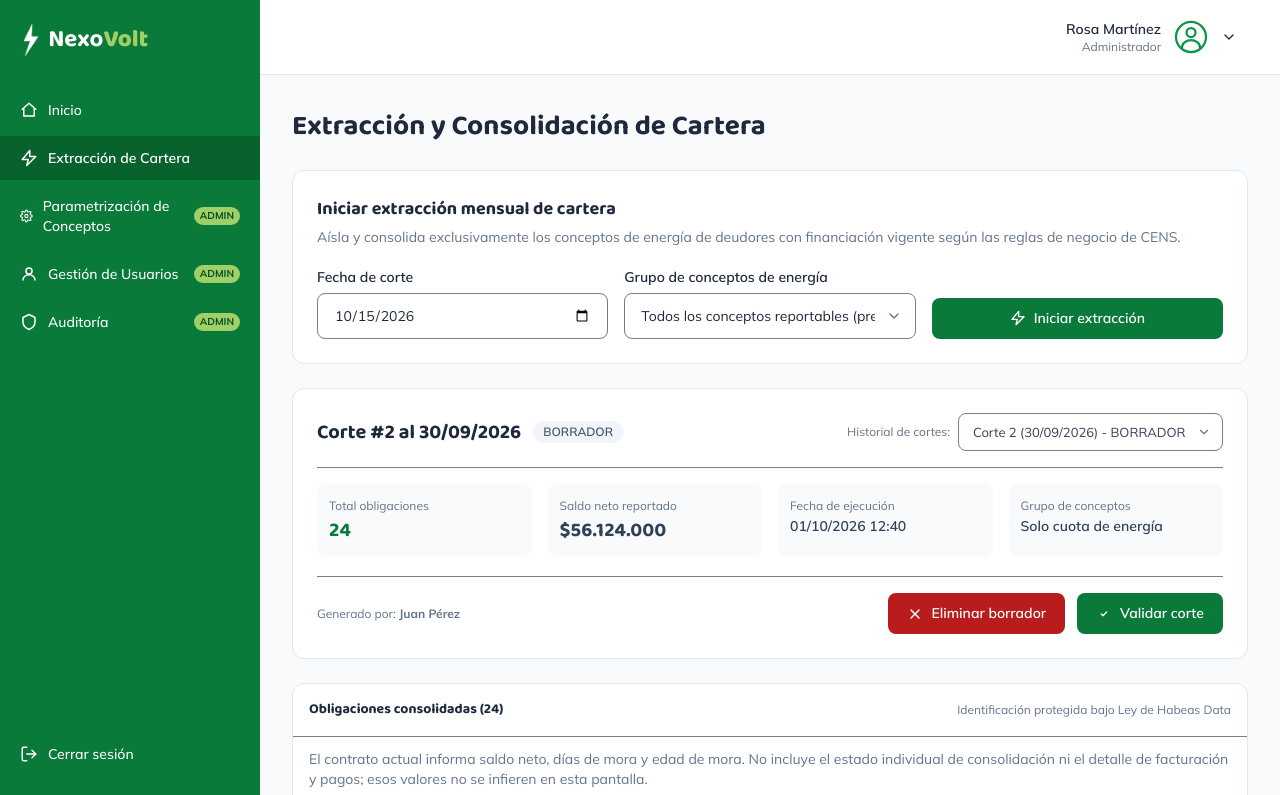
Test case: pantalla de extracción y consolidación de cartera (RF1–RF5) › formulario valida fecha obligatoria y no futura
Expected: the heading "Corte #2 al 30/09/2026" is shown, [317,418,521,446]
Clear the date field labelled "Fecha de corte" at (463, 316), box [317,293,608,339]
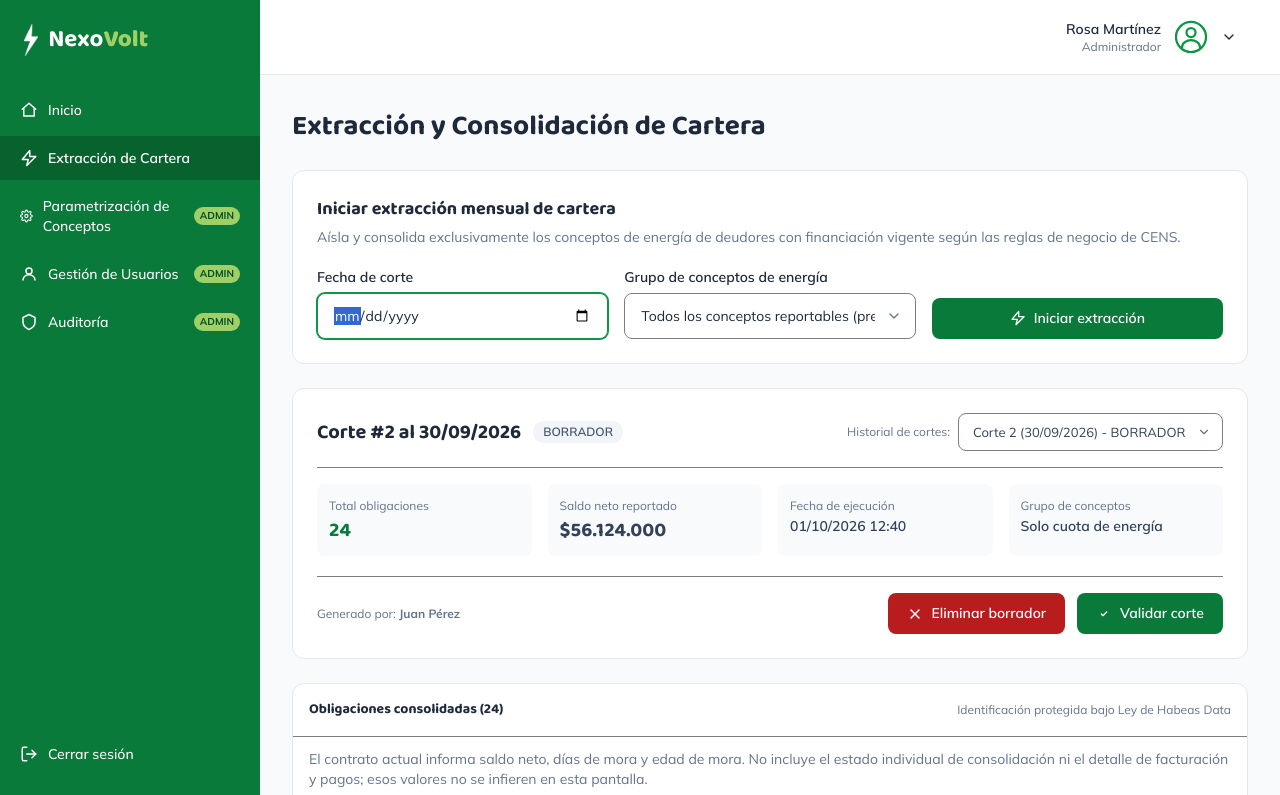
Click the button "Iniciar extracción" at (1077, 318), box [932,298,1223,339]
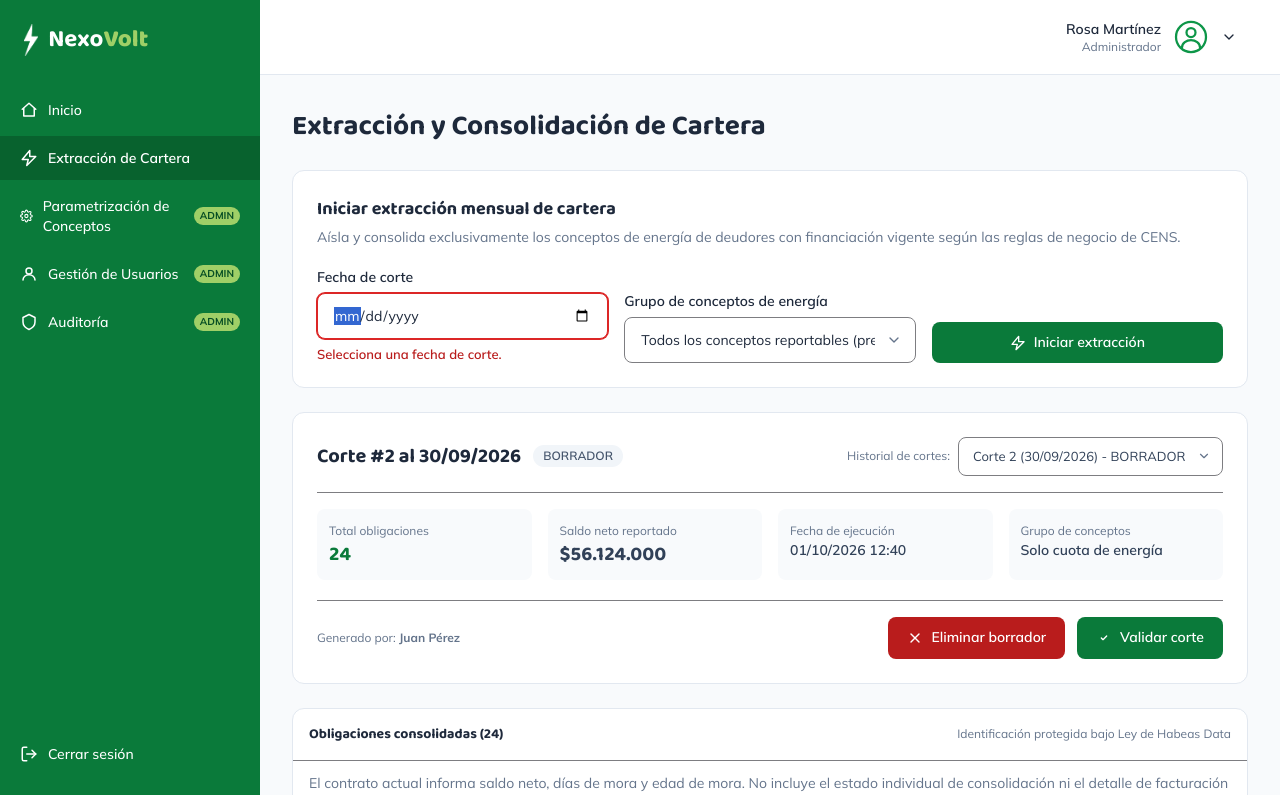
Expected: the text "Selecciona una fecha de corte." is shown, [317,346,502,362]
Fecha futura
Type "2099-01-01" into the date field labelled "Fecha de corte" at (463, 316), box [317,293,608,339]
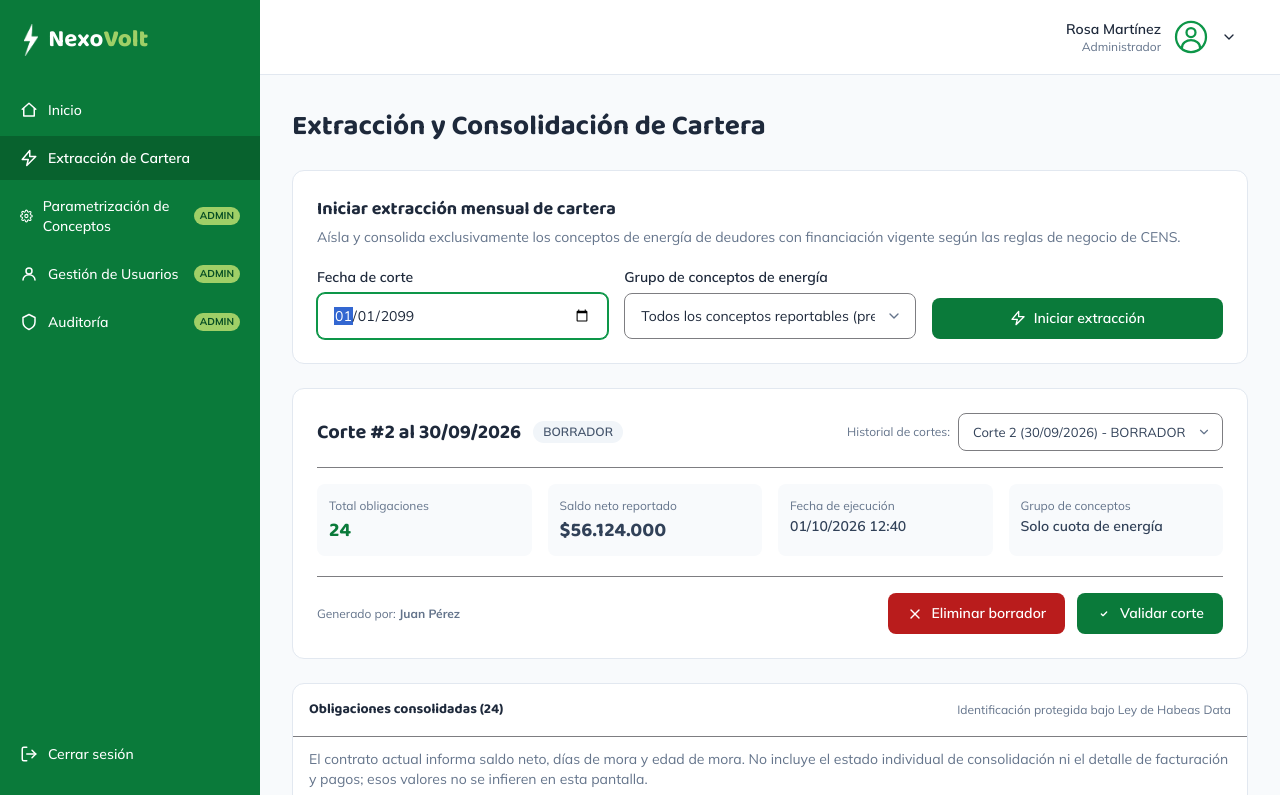
Click the button "Iniciar extracción" at (1077, 318), box [932,298,1223,339]
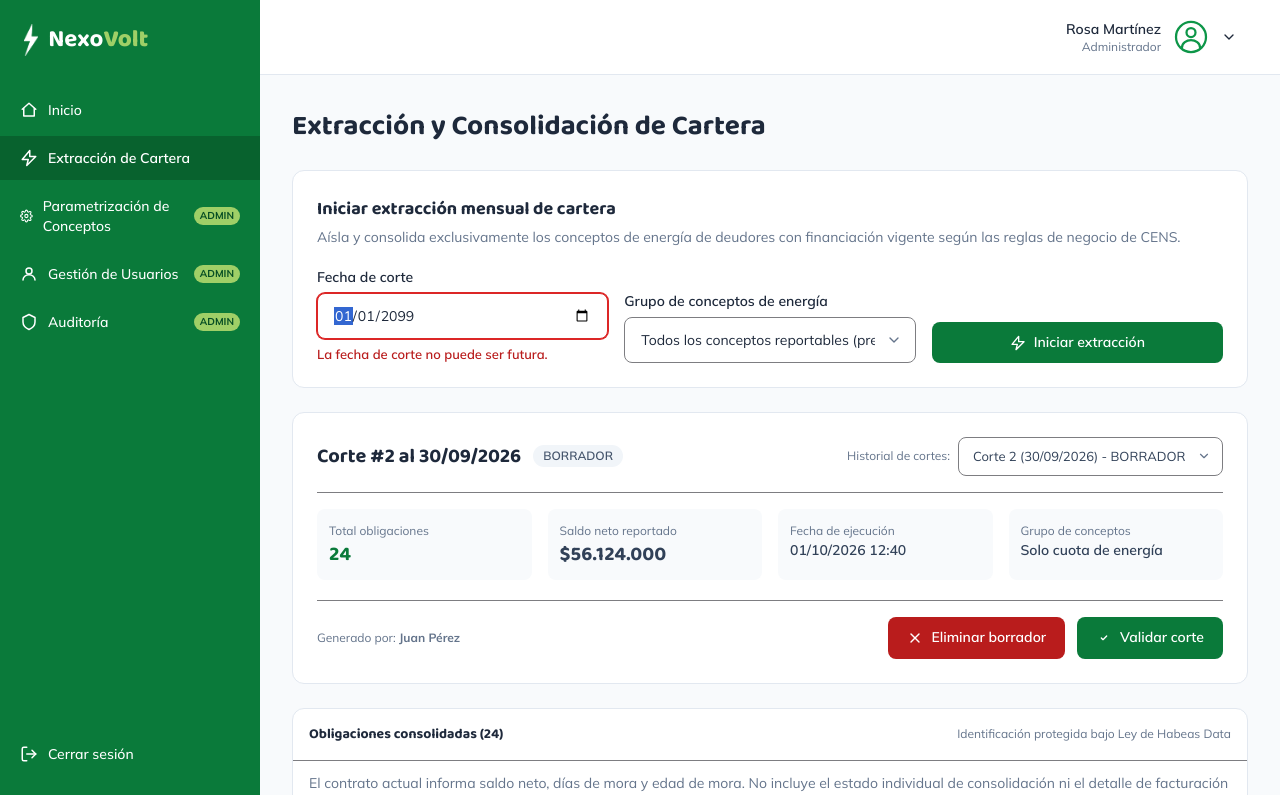
Expected: the text "La fecha de corte no puede ser futura." is shown, [317,346,548,362]
